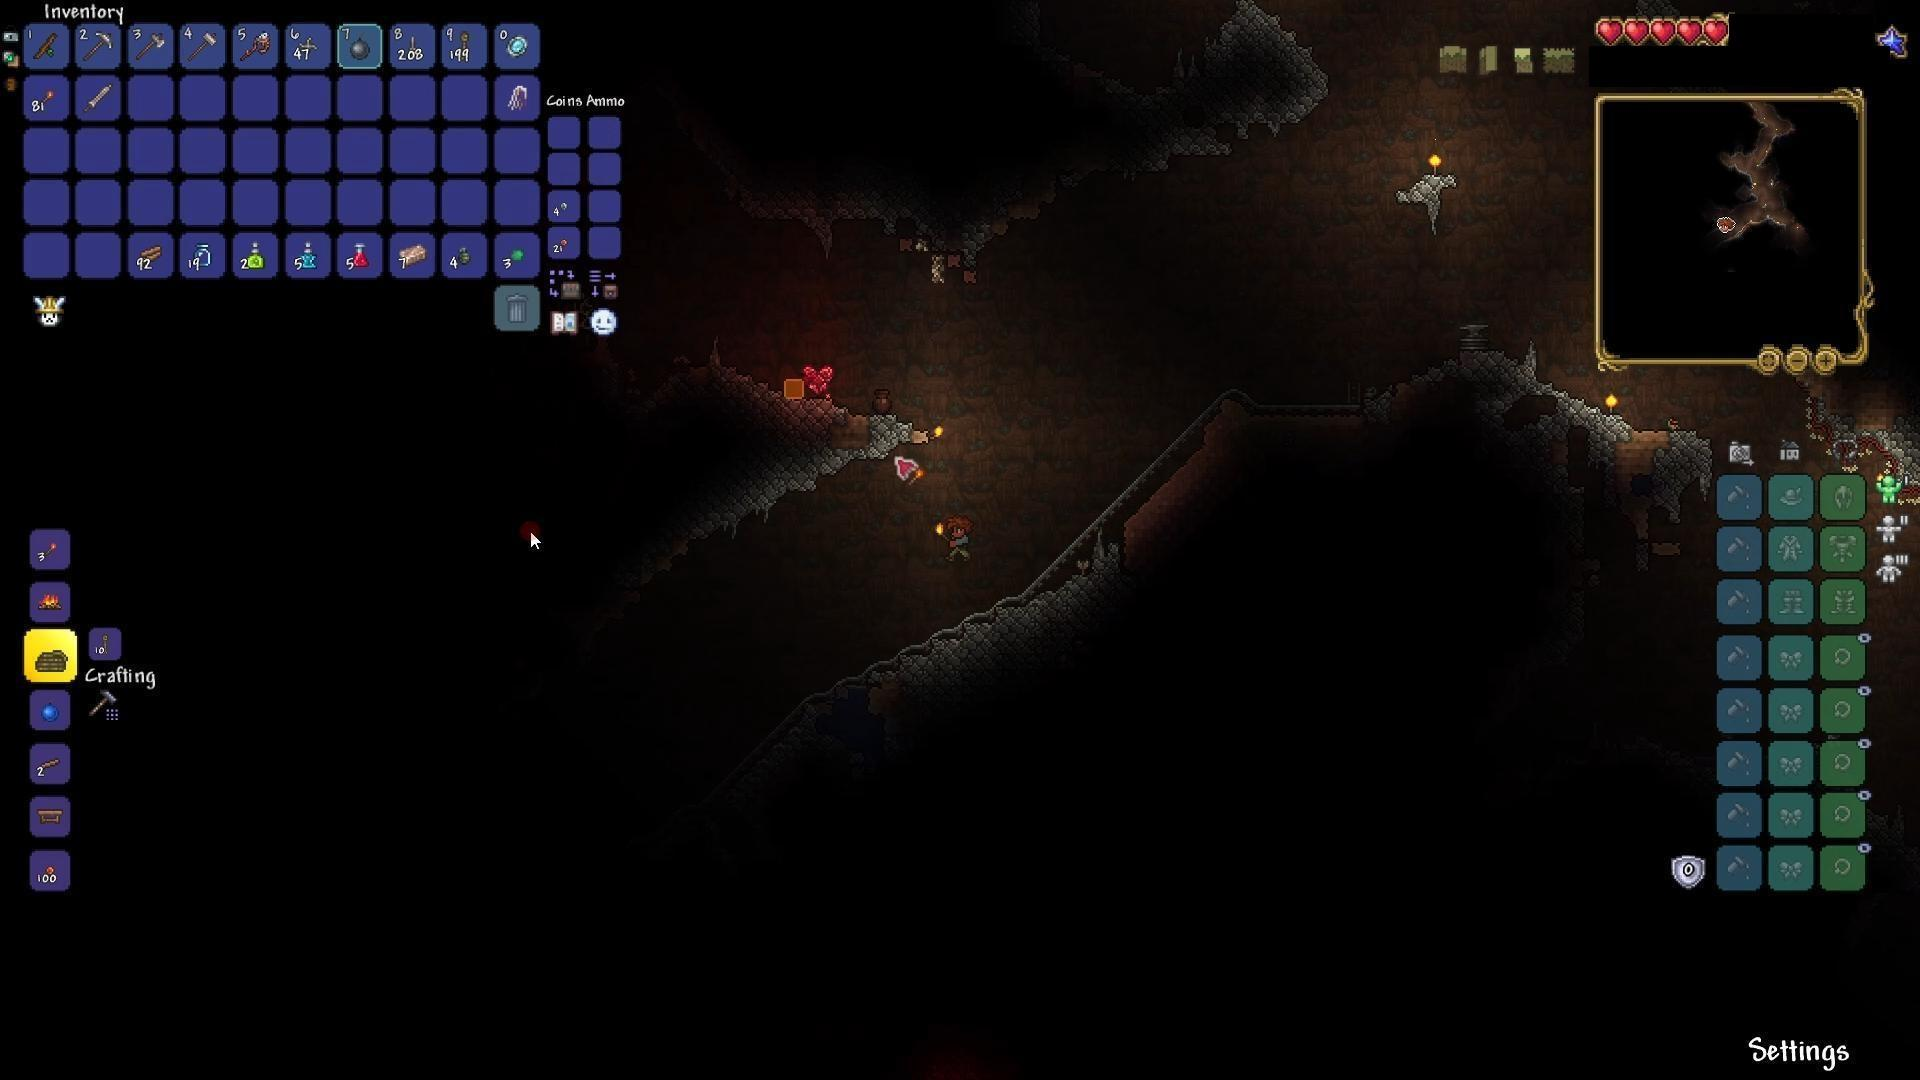heart: (1702, 17, 1733, 51), (1593, 16, 1626, 46), (1676, 15, 1704, 50), (1650, 16, 1676, 49), (1625, 15, 1651, 44)
stone: (675, 418, 903, 538), (840, 583, 1139, 666), (1069, 46, 1205, 171), (1217, 18, 1340, 157), (1464, 348, 1601, 429), (1389, 167, 1461, 220)
